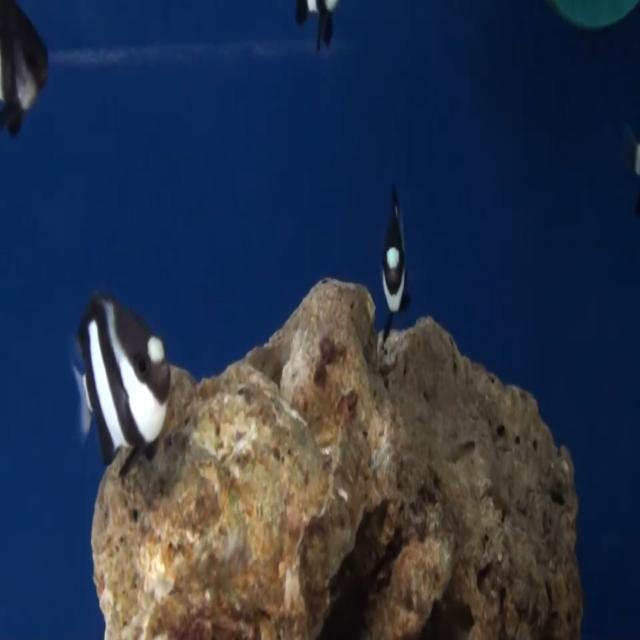ThreeStripedDamselfish: (73, 293, 172, 465), (382, 185, 407, 331)
